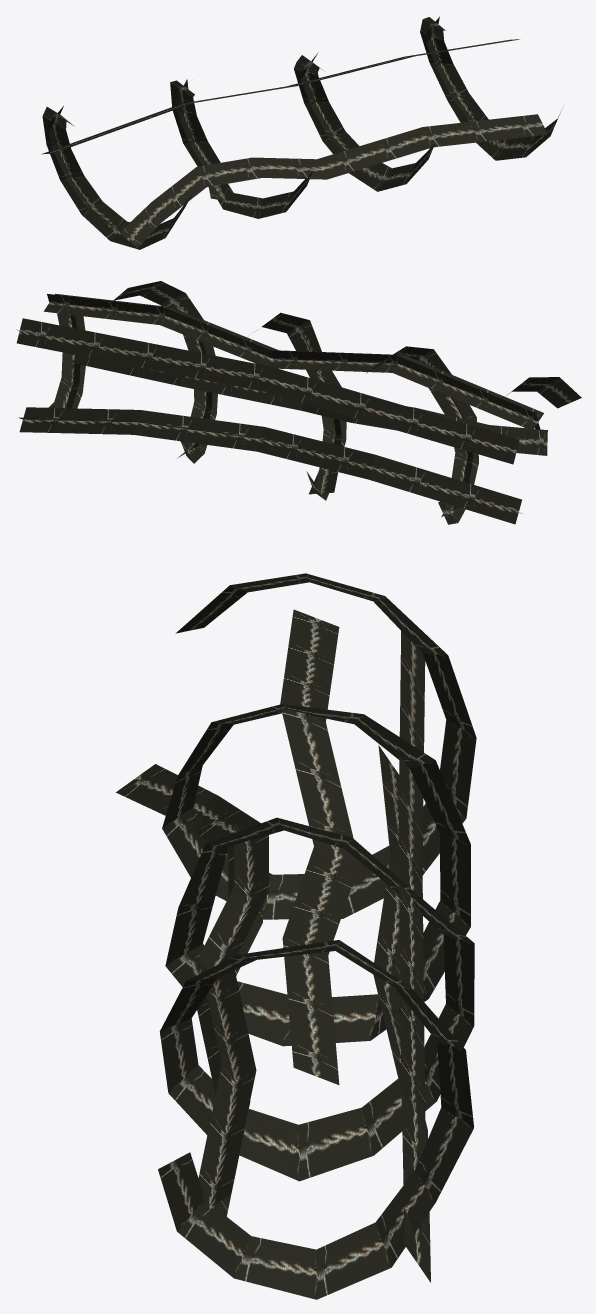
The model's file is caen_barbedwire_2.glb.
3 views of the same model, one above another, from view 1: azimuth 30°, elevation 25°; view 2: azimuth 150°, elevation 25°; view 3: azimuth 270°, elevation 25° (orthographic). The views are drawn at different scales.
Size of the model in its own units: 110 by 32.44 by 34.49.
Materials: 1 (1 with a texture image).
